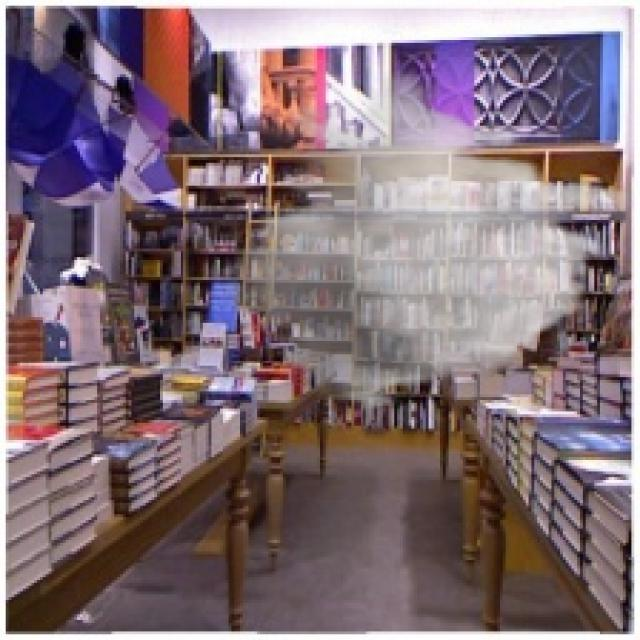smoke: (209, 72, 634, 414)
